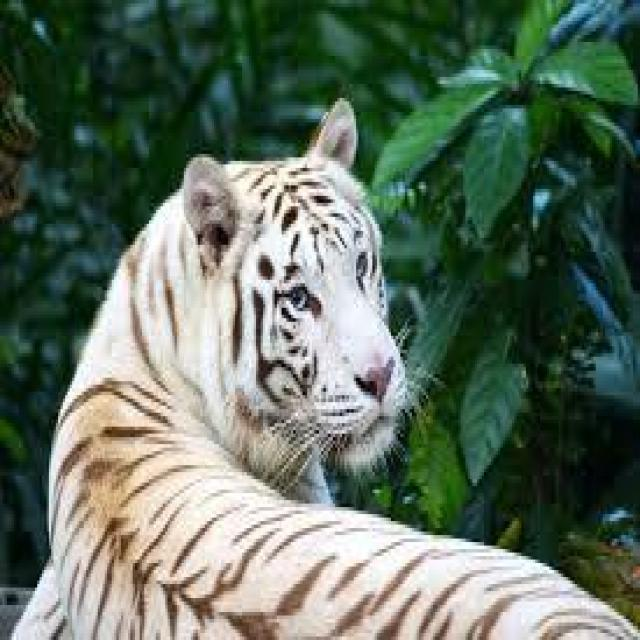Tiger: (57, 133, 467, 584)
